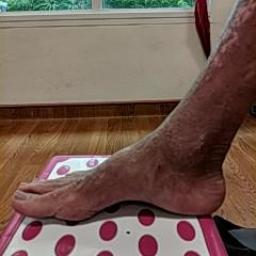Medial View -Right Foot-: (2, 116, 242, 234)
